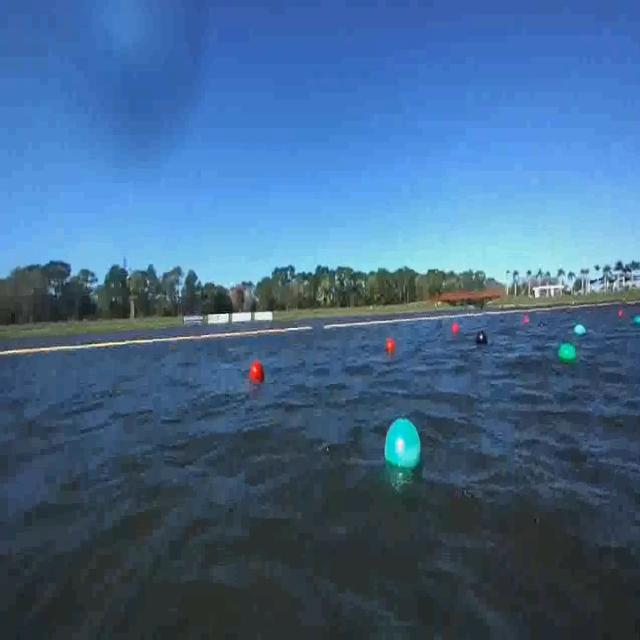black-buoy: (476, 331, 489, 347)
green-buoy: (383, 419, 421, 473), (558, 344, 577, 364), (574, 326, 585, 339), (634, 315, 640, 326)
red-buoy: (249, 362, 264, 386), (384, 340, 393, 355), (450, 325, 458, 337)
